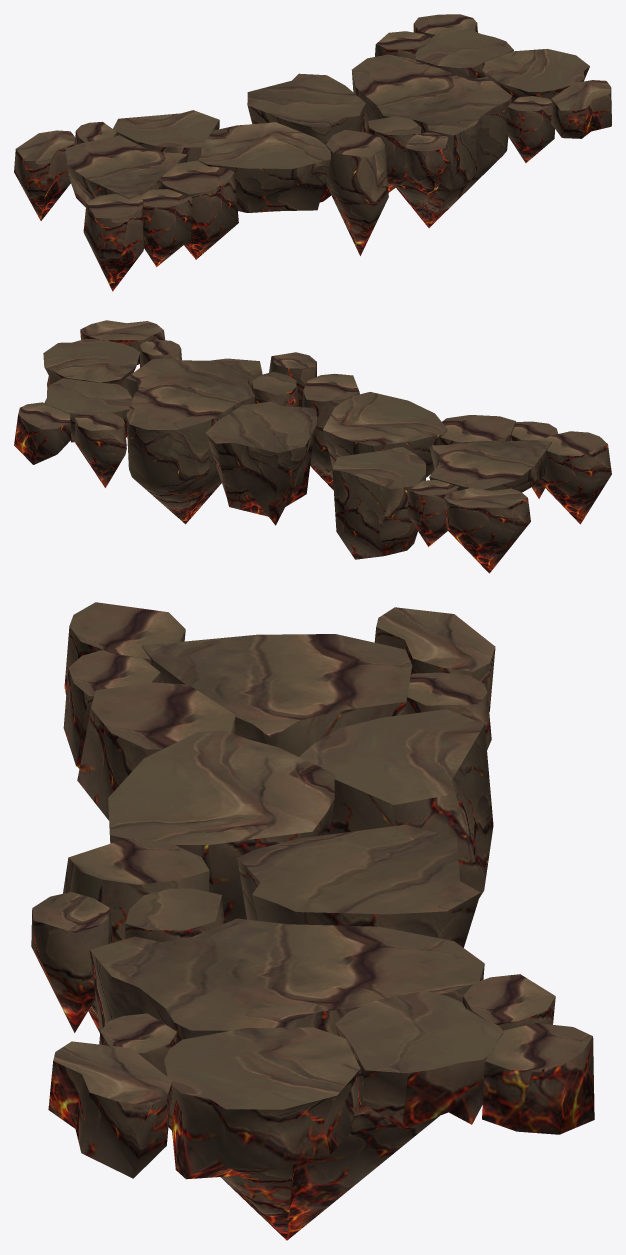
Rendered from Battle02_Road_01.FBX.
3 views of the same model, one above another, from view 1: azimuth 30°, elevation 25°; view 2: azimuth 150°, elevation 25°; view 3: azimuth 270°, elevation 25° (orthographic). The views are drawn at different scales.
Visible parts, largest first — view 1: Battle02_Road_01_02, Battle02_Road_01_01; view 2: Battle02_Road_01_02, Battle02_Road_01_01; view 3: Battle02_Road_01_02, Battle02_Road_01_01.
Boxes of the visible parts, x1,y1,x2,y2 form: Battle02_Road_01_02: (16,14,610,218); Battle02_Road_01_01: (14,23,611,291); Battle02_Road_01_02: (18,320,607,507); Battle02_Road_01_01: (14,330,611,573); Battle02_Road_01_02: (32,602,592,1109); Battle02_Road_01_01: (31,626,594,1240).
Bounding box in the file's own units: 31.14 × 7.92 × 14.63.
